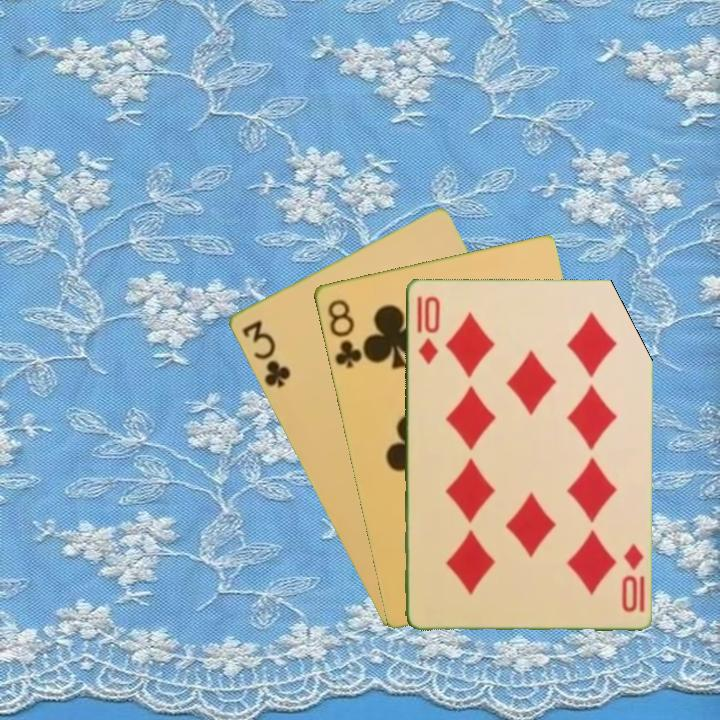10d: (617, 539, 646, 614), (413, 293, 442, 367)
3c: (238, 316, 293, 391)
8c: (323, 295, 365, 371)
